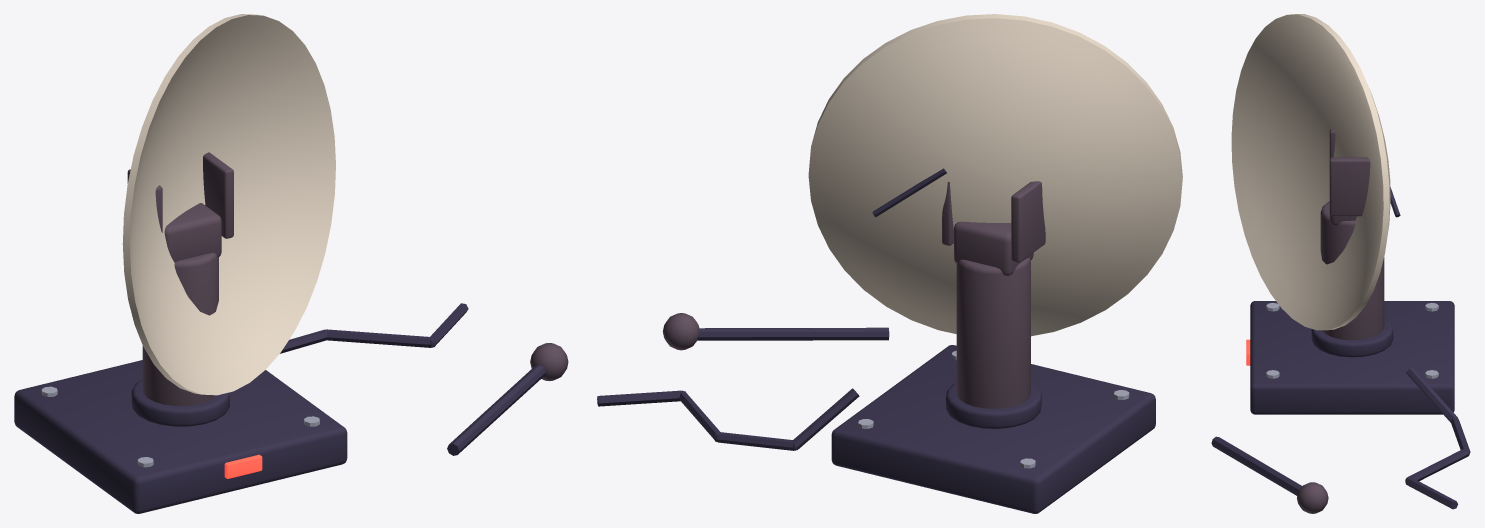
Rendered from dish_broken.glb.
The picture shows the model from 3 angles, left to right: view 1: azimuth 30°, elevation 25°; view 2: azimuth 150°, elevation 25°; view 3: azimuth 270°, elevation 25°; orthographic projection. The views are drawn at different scales.
Parts seen in each view (by area): view 1: dish_broken; view 2: dish_broken; view 3: dish_broken.
Part boxes in pixels (x1=…): dish_broken: x1=14, y1=14, x2=568, y2=513; dish_broken: x1=597, y1=14, x2=1182, y2=513; dish_broken: x1=1211, y1=14, x2=1470, y2=513.
Size of the model in its own units: 4.09 by 3.44 by 2.28.
